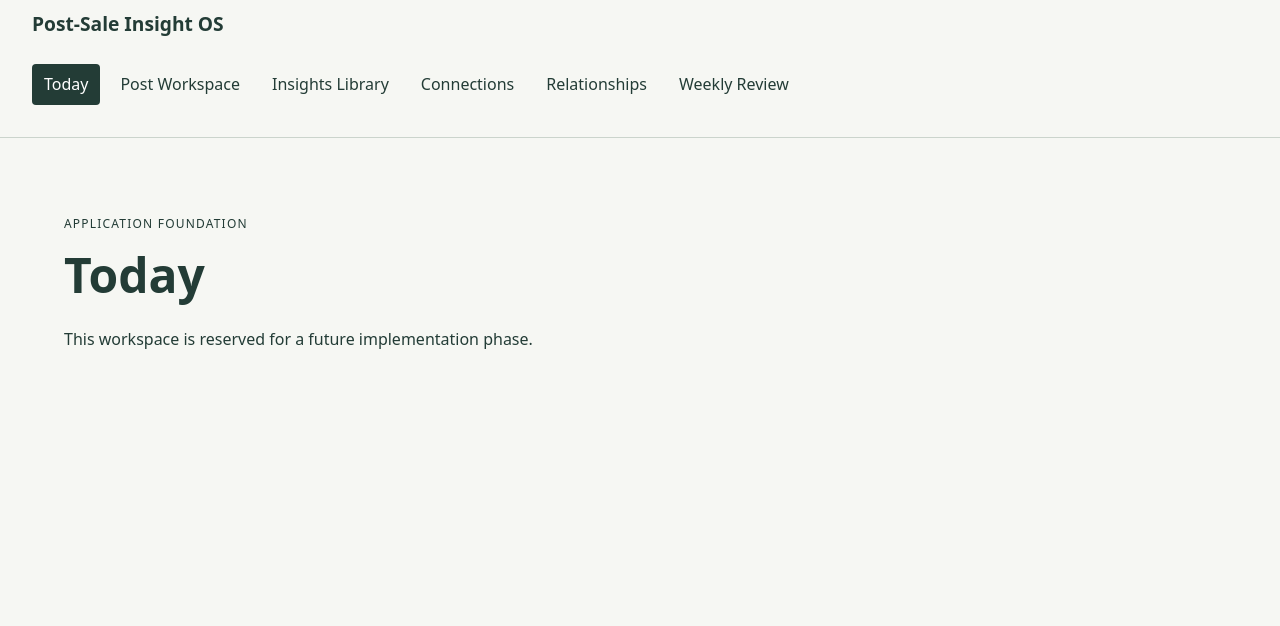
Application routes › navigates between workspaces
The width and height of the screenshot is (1280, 626).
Click the link "Insights Library" at (330, 84), box x1=272 y1=73 x2=389 y2=95
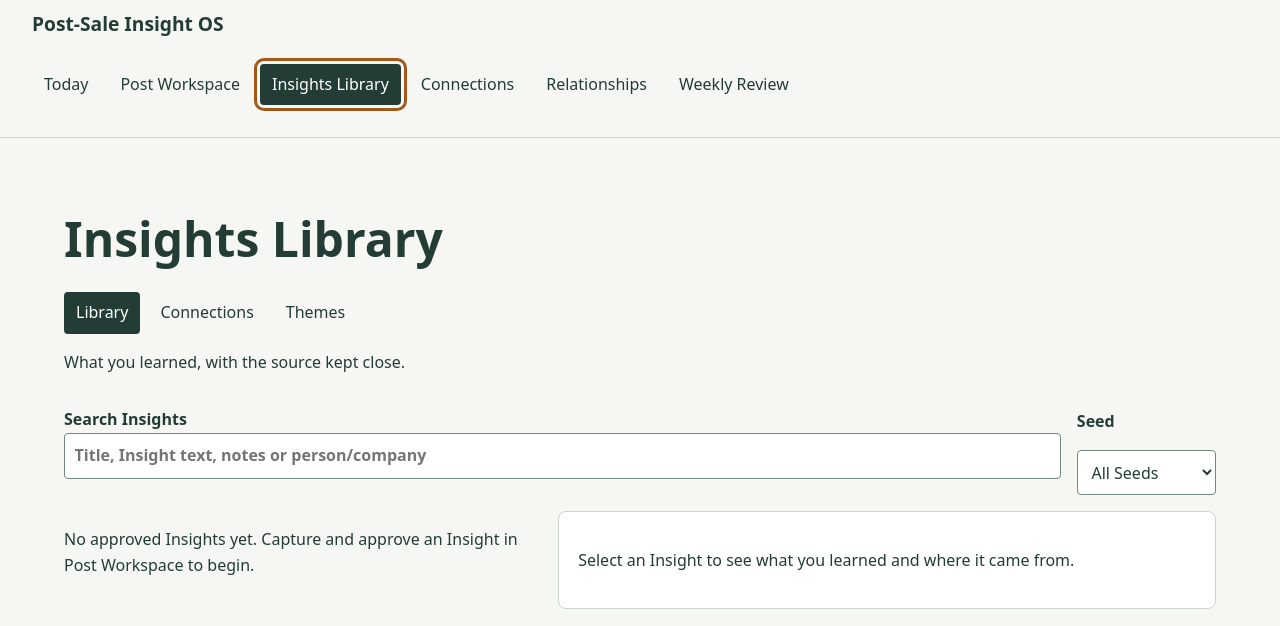
expect the heading "Insights Library" is shown: met, box x1=64 y1=206 x2=443 y2=271
